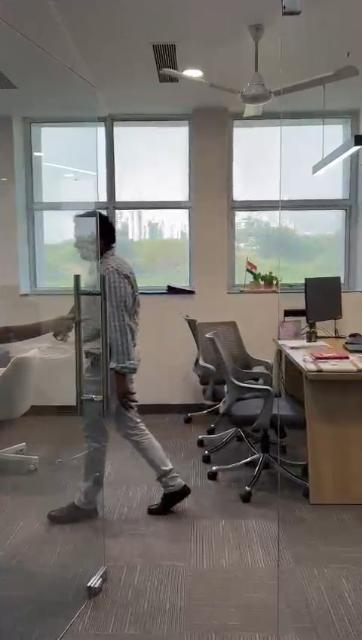floor: (5, 522, 362, 640)
moving-obj: (38, 201, 180, 535)
object: (168, 312, 304, 504), (0, 348, 40, 474), (291, 268, 351, 346)
wall: (196, 116, 227, 322), (139, 294, 185, 404)
